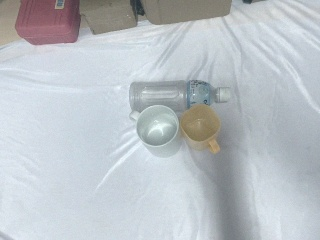bottle: (129, 80, 232, 116)
box: (80, 1, 137, 34)
cup: (136, 105, 182, 159), (180, 104, 222, 154)
